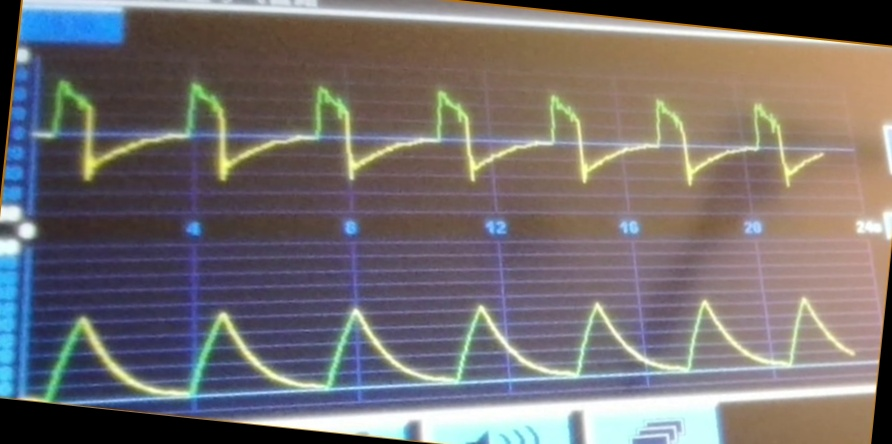Accumulation Flow: (41, 67, 837, 216)
Volume: (32, 287, 856, 399)
